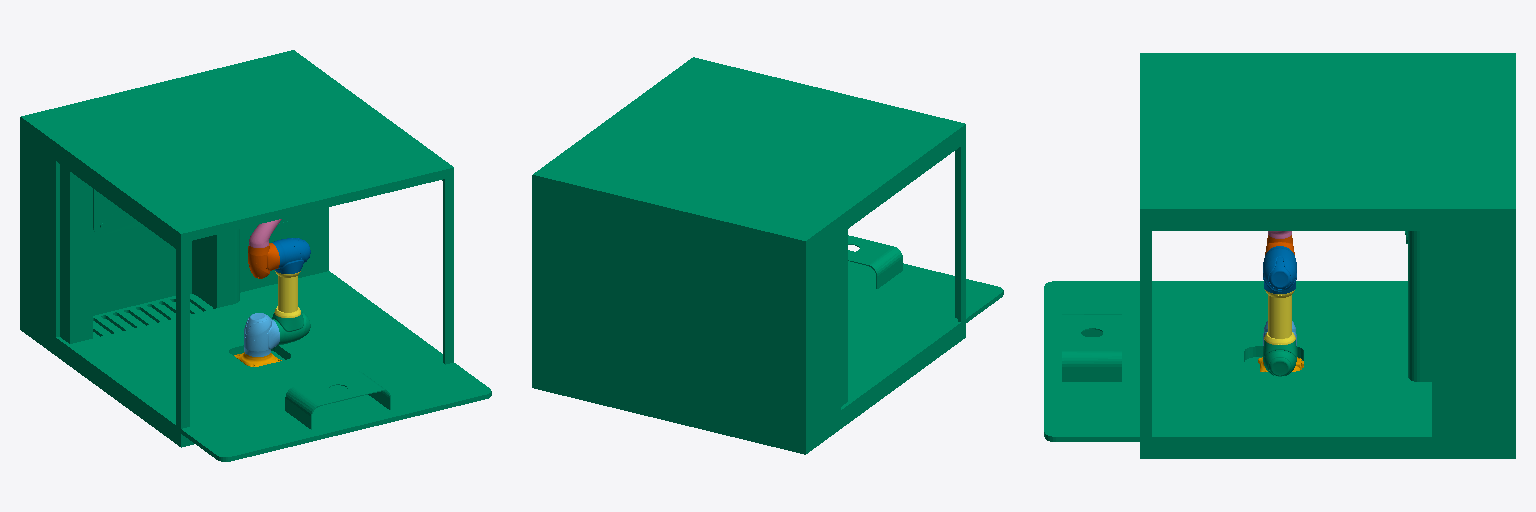
robot.urdf — M0609:
<?xml version='1.0' encoding='utf-8'?>
<robot name="M0609">
    <link name="MODULE.1_Base_Giunto_Test">
        <inertial>
            <origin xyz="-0.19242243582239288 0.013495042662391127 0.10946753796965804" rpy="0.0 0.0 0.0" />
            <mass value="0.0" />
            <inertia ixx="0.0" iyy="0.0" izz="0.0" ixy="0.0" iyz="0.0" ixz="0.0" />
        </inertial>
        <visual name="MODULE.1_Base_Giunto_Test_visual">
            <origin xyz="0.0 0.0 0.0" rpy="0.0 0.0 0.0" />
            <geometry>
                <mesh filename="meshes/MODULE.1_Base_Giunto_Test.stl" scale="0.001 0.001 0.001" />
            </geometry>
        </visual>
        <collision name="MODULE.1_Base_Giunto_Test_collision">
            <origin xyz="0.0 0.0 0.0" rpy="0.0 0.0 0.0" />
            <geometry>
                <mesh filename="meshes/MODULE.1_Base_Giunto_Test.stl" scale="0.001 0.001 0.001" />
            </geometry>
        </collision>
    </link>
    <link name="MODULE.1_Giunto_1_test">
        <inertial>
            <origin xyz="-0.19242244 -0.01349504 -0.05796722" rpy="0.0 -0.0 7.486008491288217e-106" />
            <mass value="0.0" />
            <inertia ixx="0.0" iyy="0.0" izz="0.0" ixy="0.0" iyz="0.0" ixz="0.0" />
        </inertial>
        <visual name="MODULE.1_Giunto_1_test_visual">
            <origin xyz="1.7351798632603278e-07 2.3412357030849762e-09 0.05300044071995415" rpy="3.141592631804885 1.0524540363563331e-10 -1.570796326794897" />
            <geometry>
                <mesh filename="meshes/MODULE.1_Giunto_1_test.stl" scale="0.001 0.001 0.001" />
            </geometry>
        </visual>
        <collision name="MODULE.1_Giunto_1_test_collision">
            <origin xyz="1.7351798632603278e-07 2.3412357030849762e-09 0.05300044071995415" rpy="3.141592631804885 1.0524540363563331e-10 -1.570796326794897" />
            <geometry>
                <mesh filename="meshes/MODULE.1_Giunto_1_test.stl" scale="0.001 0.001 0.001" />
            </geometry>
        </collision>
    </link>
    <link name="MODULE.1_Giunto_2_Test">
        <inertial>
            <origin xyz="0.2796224303934266 0.02403231008285004 -0.01349504170051221" rpy="0.0 1.0988181100555421e-24 2.465190328815662e-32" />
            <mass value="0.0" />
            <inertia ixx="0.0" iyy="0.0" izz="0.0" ixy="0.0" iyz="0.0" ixz="0.0" />
        </inertial>
        <visual name="MODULE.1_Giunto_2_Test_visual">
            <origin xyz="0.08819991125594254 0.13500000180240235 -6.293544938529294e-09" rpy="1.5707963547190957 1.570796320760014 0" />
            <geometry>
                <mesh filename="meshes/MODULE.1_Giunto_2_Test.stl" scale="0.001 0.001 0.001" />
            </geometry>
        </visual>
        <collision name="MODULE.1_Giunto_2_Test_collision">
            <origin xyz="0.08819991125594254 0.13500000180240235 -6.293544938529294e-09" rpy="1.5707963547190957 1.570796320760014 0" />
            <geometry>
                <mesh filename="meshes/MODULE.1_Giunto_2_Test.stl" scale="0.001 0.001 0.001" />
            </geometry>
        </collision>
    </link>
    <link name="MODULE.1_LINK.1">
        <inertial>
            <origin xyz="-0.3616219599999048 0.013492364845423021 -0.11123229941225515" rpy="0.0 -0.0 0.0" />
            <mass value="0.0" />
            <inertia ixx="0.0" iyy="0.0" izz="0.0" ixy="0.0" iyz="0.0" ixz="0.0" />
        </inertial>
        <visual name="MODULE.1_LINK.1_visual">
            <origin xyz="-0.17019943685979091 -1.1415401135472791e-09 -0.22220011732289444" rpy="-1.56370944994488e-08 -4.366568424914794e-08 1.5707962977419976" />
            <geometry>
                <mesh filename="meshes/MODULE.1_LINK.1.stl" scale="0.001 0.001 0.001" />
            </geometry>
        </visual>
        <collision name="MODULE.1_LINK.1_collision">
            <origin xyz="-0.17019943685979091 -1.1415401135472791e-09 -0.22220011732289444" rpy="-1.56370944994488e-08 -4.366568424914794e-08 1.5707962977419976" />
            <geometry>
                <mesh filename="meshes/MODULE.1_LINK.1.stl" scale="0.001 0.001 0.001" />
            </geometry>
        </collision>
    </link>
    <link name="MODULE.1_Giunto_3_Test">
        <inertial>
            <origin xyz="-0.361622 0.013492390000000002 -0.34783223999999996" rpy="0.0 -0.0 0.0" />
            <mass value="0.0" />
            <inertia ixx="0.0" iyy="0.0" izz="0.0" ixy="0.0" iyz="0.0" ixz="0.0" />
        </inertial>
        <visual name="MODULE.1_Giunto_3_Test_visual">
            <origin xyz="-0.17019942688242912 2.6776007770989984e-06 -0.4588001589848408" rpy="-1.5637169841787008e-08 -1.0438951097182845e-10 1.5707962977419982" />
            <geometry>
                <mesh filename="meshes/MODULE.1_Giunto_3_Test.stl" scale="0.001 0.001 0.001" />
            </geometry>
        </visual>
        <collision name="MODULE.1_Giunto_3_Test_collision">
            <origin xyz="-0.17019942688242912 2.6776007770989984e-06 -0.4588001589848408" rpy="-1.5637169841787008e-08 -1.0438951097182845e-10 1.5707962977419982" />
            <geometry>
                <mesh filename="meshes/MODULE.1_Giunto_3_Test.stl" scale="0.001 0.001 0.001" />
            </geometry>
        </collision>
    </link>
    <link name="MODULE.1_Giunto_4_Test">
        <inertial>
            <origin xyz="0.2796224699985163 -0.4350322297889449 0.013489716837102143" rpy="0.0 1.0735974634444793e-27 0.0" />
            <mass value="0.0" />
            <inertia ixx="0.0" iyy="0.0" izz="0.0" ixy="0.0" iyz="0.0" ixz="0.0" />
        </inertial>
        <visual name="MODULE.1_Giunto_4_Test_visual">
            <origin xyz="0.08719964503562874 -0.546000143902197 1.9391085950282163e-08" rpy="-1.5707963424320661 -1.5707962936507167 0" />
            <geometry>
                <mesh filename="meshes/MODULE.1_Giunto_4_Test.stl" scale="0.001 0.001 0.001" />
            </geometry>
        </visual>
        <collision name="MODULE.1_Giunto_4_Test_collision">
            <origin xyz="0.08719964503562874 -0.546000143902197 1.9391085950282163e-08" rpy="-1.5707963424320661 -1.5707962936507167 0" />
            <geometry>
                <mesh filename="meshes/MODULE.1_Giunto_4_Test.stl" scale="0.001 0.001 0.001" />
            </geometry>
        </collision>
    </link>
    <link name="MODULE.1_Link_2">
        <inertial>
            <origin xyz="0.19862265116128439 0.013489718119902794 0.5189889893445091" rpy="3.308722450212111e-24 -4.1359030627651384e-25 0.0" />
            <mass value="0.0" />
            <inertia ixx="0.0" iyy="0.0" izz="0.0" ixy="0.0" iyz="0.0" ixz="0.0" />
        </inertial>
        <visual name="MODULE.1_Link_2_visual">
            <origin xyz="0.006199856623504161 2.1854072491667155e-08 0.6304505536650948" rpy="3.1415926324852266 1.838927732358647e-08 1.5707963558477973" />
            <geometry>
                <mesh filename="meshes/MODULE.1_Link_2.stl" scale="0.001 0.001 0.001" />
            </geometry>
        </visual>
        <collision name="MODULE.1_Link_2_collision">
            <origin xyz="0.006199856623504161 2.1854072491667155e-08 0.6304505536650948" rpy="3.1415926324852266 1.838927732358647e-08 1.5707963558477973" />
            <geometry>
                <mesh filename="meshes/MODULE.1_Link_2.stl" scale="0.001 0.001 0.001" />
            </geometry>
        </collision>
    </link>
    <link name="MODULE.1_Giunto_5_Test">
        <inertial>
            <origin xyz="0.3445736297037857 -0.013489715856294993 -0.7374383600312812" rpy="0.0 -0.0 0.0" />
            <mass value="0.0" />
            <inertia ixx="0.0" iyy="0.0" izz="0.0" ixy="0.0" iyz="0.0" ixz="0.0" />
        </inertial>
        <visual name="MODULE.1_Giunto_5_Test_visual">
            <origin xyz="0.14711487802300813 -0.002068634882626166 -0.8512648403193245" rpy="-3.1685241183956177e-08 -1.028338452817359e-08 -1.5707963558477975" />
            <geometry>
                <mesh filename="meshes/MODULE.1_Giunto_5_Test.stl" scale="0.001 0.001 0.001" />
            </geometry>
        </visual>
        <collision name="MODULE.1_Giunto_5_Test_collision">
            <origin xyz="0.14711487802300813 -0.002068634882626166 -0.8512648403193245" rpy="-3.1685241183956177e-08 -1.028338452817359e-08 -1.5707963558477975" />
            <geometry>
                <mesh filename="meshes/MODULE.1_Giunto_5_Test.stl" scale="0.001 0.001 0.001" />
            </geometry>
        </collision>
    </link>
    <link name="MODULE.1_Giunto_6_Test">
        <inertial>
            <origin xyz="0.28365951842075393 0.8001731900672566 -0.011421104510842422" rpy="0.0 -4.79509716152183e-24 9.860761315262648e-32" />
            <mass value="0.0" />
            <inertia ixx="0.0" iyy="0.0" izz="0.0" ixy="0.0" iyz="0.0" ixz="0.0" />
        </inertial>
        <visual name="MODULE.1_Giunto_6_Test_visual">
            <origin xyz="0.08520046854875837 0.9139996607567459 6.297028882773503e-09" rpy="1.570796292631261 1.5707961666104695 0" />
            <geometry>
                <mesh filename="meshes/MODULE.1_Giunto_6_Test.stl" scale="0.001 0.001 0.001" />
            </geometry>
        </visual>
        <collision name="MODULE.1_Giunto_6_Test_collision">
            <origin xyz="0.08520046854875837 0.9139996607567459 6.297028882773503e-09" rpy="1.570796292631261 1.5707961666104695 0" />
            <geometry>
                <mesh filename="meshes/MODULE.1_Giunto_6_Test.stl" scale="0.001 0.001 0.001" />
            </geometry>
        </collision>
    </link>
    <link name="MODULE.1_FLANGE-END">
        <inertial>
            <origin xyz="0.204659520090475 0.011421062453242686 0.860629200078635" rpy="0.0 -0.0 0.0" />
            <mass value="0.0" />
            <inertia ixx="0.0" iyy="0.0" izz="0.0" ixy="0.0" iyz="0.0" ixz="0.0" />
        </inertial>
        <visual name="MODULE.1_FLANGE-END_visual">
            <origin xyz="0.006199838842083274 3.084153392673983e-09 0.9755000772267036" rpy="3.1415926283001623 -6.321774450045751e-09 1.5707963486654406" />
            <geometry>
                <mesh filename="meshes/MODULE.1_FLANGE-END.stl" scale="0.001 0.001 0.001" />
            </geometry>
        </visual>
        <collision name="MODULE.1_FLANGE-END_collision">
            <origin xyz="0.006199838842083274 3.084153392673983e-09 0.9755000772267036" rpy="3.1415926283001623 -6.321774450045751e-09 1.5707963486654406" />
            <geometry>
                <mesh filename="meshes/MODULE.1_FLANGE-END.stl" scale="0.001 0.001 0.001" />
            </geometry>
        </collision>
    </link>
    <link name="MODULE.1_scatola_orientata">
        <inertial>
            <origin xyz="-0.0020825691235483654 0.5296382518428322 0.0" rpy="0.0 0.0 0.0" />
            <mass value="7263.433017326266" />
            <inertia ixx="26976151.137528095" iyy="26731205.441222787" izz="29748565.654636983" ixy="-139230.63592764104" iyz="-2775428.8271235703" ixz="522280.98508410837" />
        </inertial>
        <visual name="MODULE.1_scatola_orientata_visual">
            <origin xyz="0.0 0.0 0.0" rpy="0.0 0.0 0.0" />
            <geometry>
                <mesh filename="meshes/MODULE.1_scatola_orientata.stl" scale="0.001 0.001 0.001" />
            </geometry>
        </visual>
        <collision name="MODULE.1_scatola_orientata_collision">
            <origin xyz="0.0 0.0 0.0" rpy="0.0 0.0 0.0" />
            <geometry>
                <mesh filename="meshes/MODULE.1_scatola_orientata.stl" scale="0.001 0.001 0.001" />
            </geometry>
        </collision>
    </link>
    <joint name="MODULE.1_Base_Giunto_Test_Rivoluzione-14" type="revolute">
        <origin xyz="4.177606669486522e-09 2.6623910986955935e-09 0.051500317969658066" rpy="3.141592653589793 7.112366251504899e-17 4.0221698574279385e-24" />
        <parent link="MODULE.1_Base_Giunto_Test" />
        <child link="MODULE.1_Giunto_1_test" />
        <axis xyz="1.232595164407831e-32 0.0 1.0" />
        <limit lower="0.0" upper="6.283185" effort="1000000" velocity="1000000" />
    </joint>
    <joint name="MODULE.1_Giunto_1_test_Rivoluzione-15" type="revolute">
        <origin xyz="0.08719999000000002 9.999999999177334e-09 -0.08199953000000001" rpy="1.5707963206556053 1.7898125956067532e-16 -3.1415926244363863" />
        <parent link="MODULE.1_Giunto_1_test" />
        <child link="MODULE.1_Giunto_2_Test" />
        <axis xyz="-0.9999999999999996 -1.2924721723044257e-26 -2.9153406718053887e-08" />
        <limit lower="0.0" upper="6.283185" effort="1000000" velocity="1000000" />
    </joint>
    <joint name="MODULE.1_LINK.1_Rigido-21" type="fixed">
        <origin xyz="3.9999797536438564e-08 -4.030659978671025e-08 0.23659993999999834" rpy="4.35612950157318e-08 -1.6559738763376225e-31 3.801479904900854e-24" />
        <parent link="MODULE.1_LINK.1" />
        <child link="MODULE.1_Giunto_3_Test" />
    </joint>
    <joint name="MODULE.1_Giunto_3_Test_Rivoluzione-23" type="revolute">
        <origin xyz="-0.08199952999999997 2.68000000000157e-06 0.08719999000000002" rpy="1.5707963424405134 -1.7208009109641183e-18 -3.1415926534798073" />
        <parent link="MODULE.1_Giunto_3_Test" />
        <child link="MODULE.1_Giunto_4_Test" />
        <axis xyz="1.0 -1.2924690020840616e-26 1.0998613364735714e-10" />
        <limit lower="0.0" upper="6.283185" effort="1000000" velocity="1000000" />
    </joint>
    <joint name="MODULE.1_Giunto_4_Test_Rivoluzione-18" type="revolute">
        <origin xyz="0.08099982000000001 0.08395676000000002 -1.3046464353294596e-09" rpy="1.5707963267948966 -1.0998613364735122e-10 -2.237589537389989e-09" />
        <parent link="MODULE.1_Giunto_4_Test" />
        <child link="MODULE.1_Link_2" />
        <axis xyz="2.237589537389989e-09 1.56456166774e-08 1.0" />
        <limit lower="-3.141593" upper="3.141593" effort="1000000" velocity="1000000" />
    </joint>
    <joint name="MODULE.1_Giunto_6_Test_Rivoluzione-20" type="revolute">
        <origin xyz="0.07899999999999917 -0.06045601000000005 -1.1279708171940684e-08" rpy="-1.570796329674971 1.3827461096225338e-07 1.0512658657800057e-10" />
        <parent link="MODULE.1_Giunto_6_Test" />
        <child link="MODULE.1_FLANGE-END" />
        <axis xyz="1.0512658657799958e-10 -8.768883643900007e-09 1.0" />
        <limit lower="-3.141593" upper="3.141593" effort="1000000" velocity="1000000" />
    </joint>
    <joint name="MODULE.1_Giunto_2_Test_Rigido-2" type="fixed">
        <origin xyz="-0.08199952999992156 -0.08719998999998348 -2.6929259117980386e-06" rpy="-1.570796376495483 2.915340671805389e-08 -3.141592653589793" />
        <parent link="MODULE.1_Giunto_2_Test" />
        <child link="MODULE.1_LINK.1" />
    </joint>
    <joint name="MODULE.1_Link_2_Rigido-3" type="fixed">
        <origin xyz="-0.1459509804888001 -3.417775107372734e-09 -0.2184493696734217" rpy="3.1415926458855794 2.6392696068349678e-09 -3.0946284631367187e-18" />
        <parent link="MODULE.1_Link_2" />
        <child link="MODULE.1_Giunto_5_Test" />
    </joint>
    <joint name="MODULE.1_Giunto_5_Test_Rivoluzione-4" type="revolute">
        <origin xyz="0.0609141100251993 -0.0020686395017974514 0.06273482999195991" rpy="-1.5707963406251084 4.016819818121469e-10 1.3827461096195065e-07" />
        <parent link="MODULE.1_Giunto_5_Test" />
        <child link="MODULE.1_Giunto_6_Test" />
        <axis xyz="-0.9999999999999905 8.271806134703601e-25 1.382746109619502e-07" />
        <limit lower="0.0" upper="6.283185" effort="1000000" velocity="1000000" />
    </joint>
    <joint name="MODULE.1_Base_Giunto_Test_Rigido-5" type="fixed">
        <origin xyz="0 0 -0.051500317969658066" rpy="-1.0616688818434631e-32 7.112366251504899e-17 4.0221698574279385e-24" />
        <parent link="MODULE.1_Base_Giunto_Test" />
        <child link="MODULE.1_scatola_orientata" />
    </joint>
</robot>

--- Render facts (derived) ---
The picture shows the robot from 3 angles, left to right: view 1: azimuth 30°, elevation 25°; view 2: azimuth 150°, elevation 25°; view 3: azimuth 270°, elevation 25°; orthographic projection.
Model M0609 with 11 links and 10 joints (6 revolute, 4 fixed), rooted at MODULE.1_Base_Giunto_Test, posed all joints at 0.
Links seen in each view (by area): view 1: MODULE.1_scatola_orientata, MODULE.1_Giunto_1_test, MODULE.1_Giunto_3_Test, MODULE.1_LINK.1, MODULE.1_Giunto_4_Test, MODULE.1_Giunto_2_Test; view 2: MODULE.1_scatola_orientata; view 3: MODULE.1_scatola_orientata, MODULE.1_Giunto_3_Test, MODULE.1_LINK.1, MODULE.1_Giunto_2_Test.
Boxes of the visible links, x1,y1,x2,y2 form: MODULE.1_scatola_orientata: (20, 50, 491, 461); MODULE.1_Giunto_1_test: (244, 313, 279, 356); MODULE.1_Giunto_3_Test: (272, 238, 310, 273); MODULE.1_LINK.1: (274, 271, 300, 317); MODULE.1_Giunto_4_Test: (248, 243, 279, 278); MODULE.1_Giunto_2_Test: (272, 312, 310, 344); MODULE.1_scatola_orientata: (532, 57, 1003, 454); MODULE.1_scatola_orientata: (1044, 53, 1515, 458); MODULE.1_Giunto_3_Test: (1263, 246, 1296, 293); MODULE.1_LINK.1: (1264, 290, 1295, 344); MODULE.1_Giunto_2_Test: (1263, 340, 1296, 376).
Bounding box of the posed robot: 1.54 × 1.97 × 1.15 m (x, y, z).
10 mesh visuals loaded from 11 distinct referenced files (10 binary STL); not drawn: 1 (reference not matched to a file when rendering).
